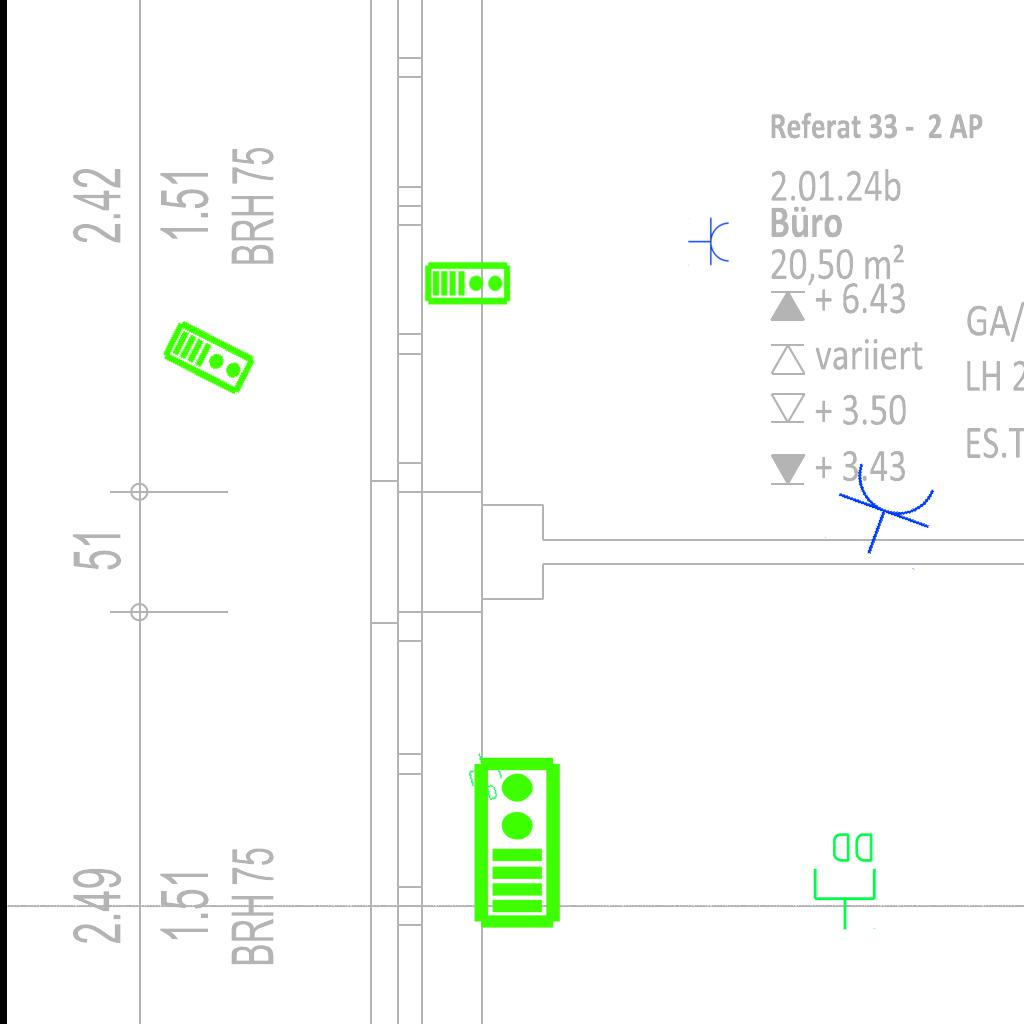Datenanschluss_zweifach: (811, 829, 880, 932), (462, 747, 509, 807)
Gegensprechanlage_mit_Video: (468, 754, 563, 930), (159, 316, 260, 398), (424, 259, 512, 306)
Schukosteckdose_einfach: (822, 455, 946, 572), (688, 217, 731, 267)
